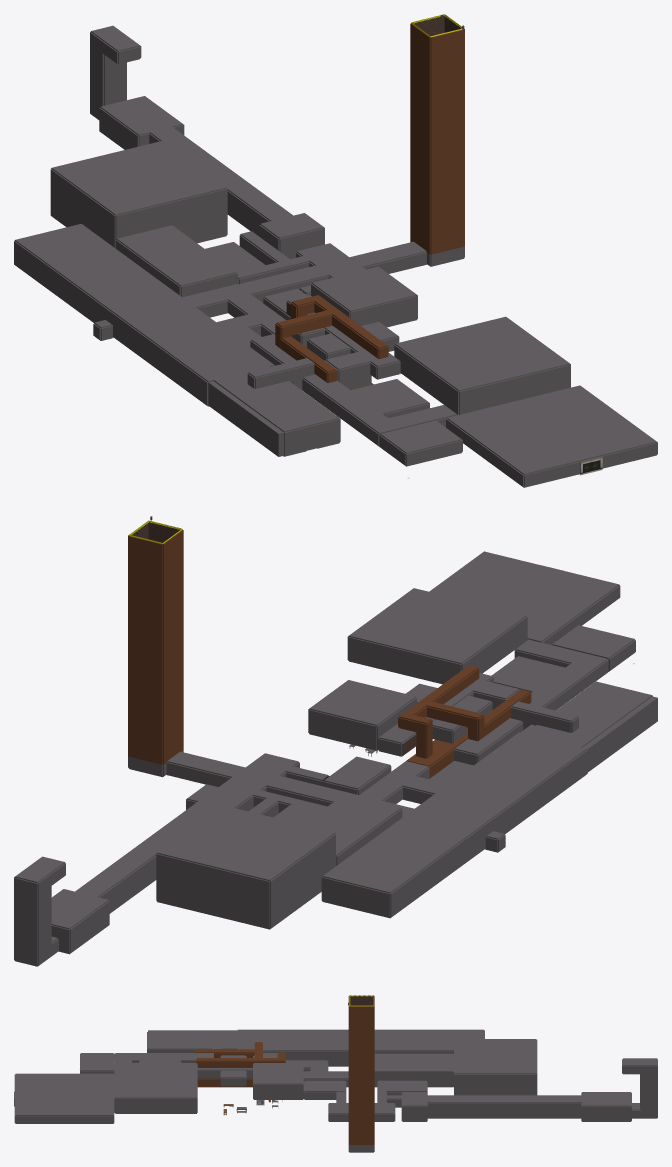
The model's file is area_51_large.glb.
3 views of the same model, one above another, from view 1: azimuth 30°, elevation 25°; view 2: azimuth 150°, elevation 25°; view 3: azimuth 270°, elevation 25° (orthographic). The views are drawn at different scales.
Parts seen in each view (by area): view 1: Object_48, Object_49, Object_28, Object_50; view 2: Object_48, Object_49, Object_28, Object_50, Object_75; view 3: Object_48, Object_49, Object_28, Object_50.
Part boxes in pixels (x1,y1,x2,y2): Object_48: (14, 25, 657, 487); Object_49: (208, 240, 657, 486); Object_28: (274, 23, 464, 389); Object_50: (112, 244, 416, 427); Object_48: (14, 551, 652, 966); Object_49: (128, 585, 657, 776); Object_28: (128, 529, 531, 778); Object_50: (176, 709, 587, 848); Object_75: (132, 522, 416, 755); Object_48: (14, 1029, 657, 1152); Object_49: (15, 1030, 374, 1152); Object_28: (196, 996, 374, 1144); Object_50: (113, 1051, 394, 1121).
Size of the model in its own units: 324 by 202 by 789.
Materials: 76 (54 with a texture image).
